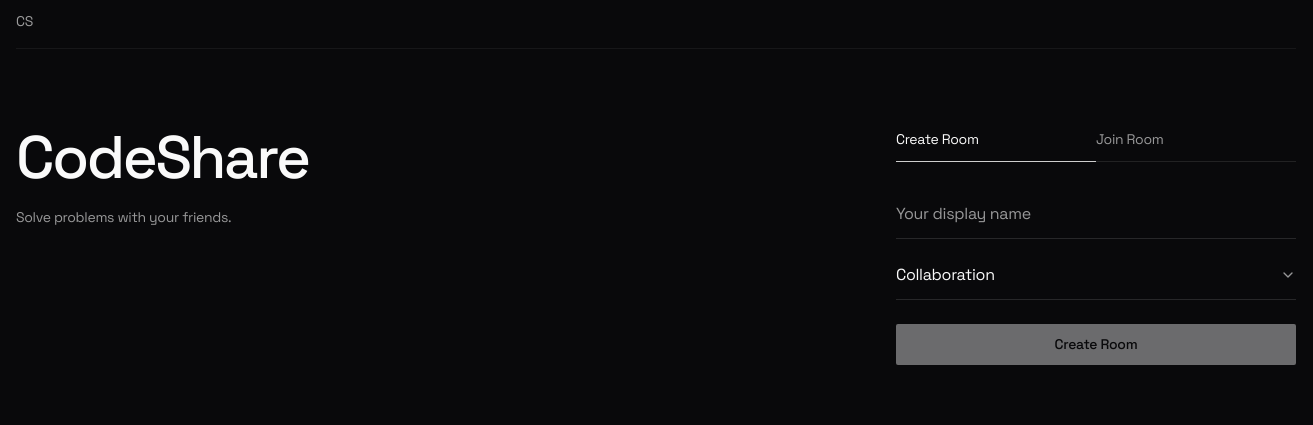
Scenario: HomePage › shows error message on API failure
Type "Alice" into the field with placeholder "Your display name".
click(1096, 220); type("Alice")  # box [896, 202, 1296, 239]
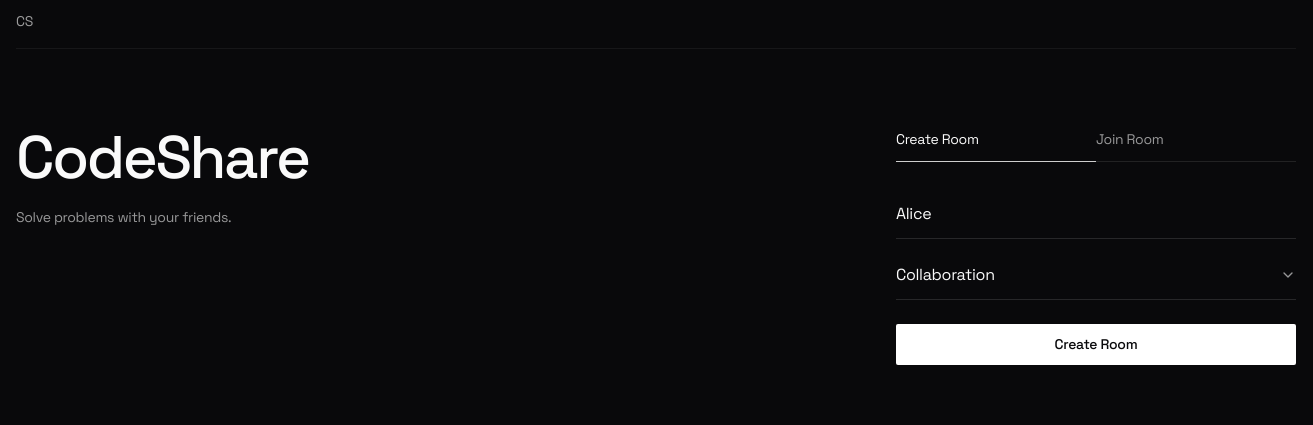
Click the button "Create Room".
click(1096, 344)  # box [896, 324, 1296, 365]
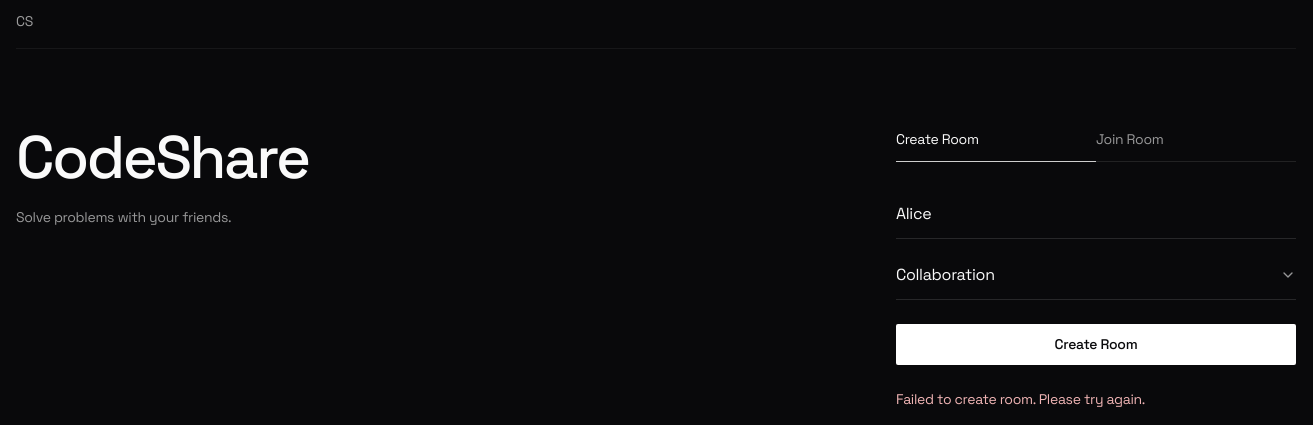
Check: the button "Create Room" is enabled, box [896, 324, 1296, 365]
Check: the text "Failed to create room. Please try again." is shown, box [896, 390, 1145, 408]
